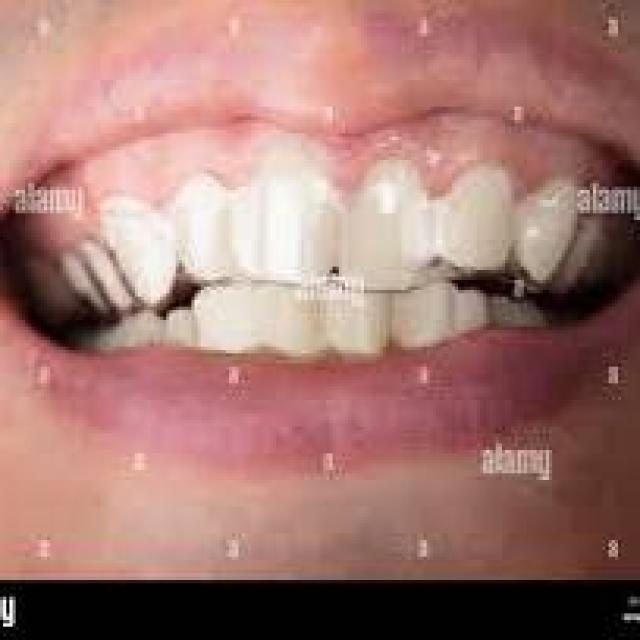tooth: (345, 150, 430, 287), (248, 150, 336, 280), (160, 163, 245, 280), (439, 146, 515, 276), (97, 193, 179, 300), (527, 150, 577, 297), (330, 277, 392, 353), (195, 280, 257, 350), (267, 280, 323, 350), (402, 270, 452, 343), (458, 267, 493, 330), (163, 297, 198, 350)
